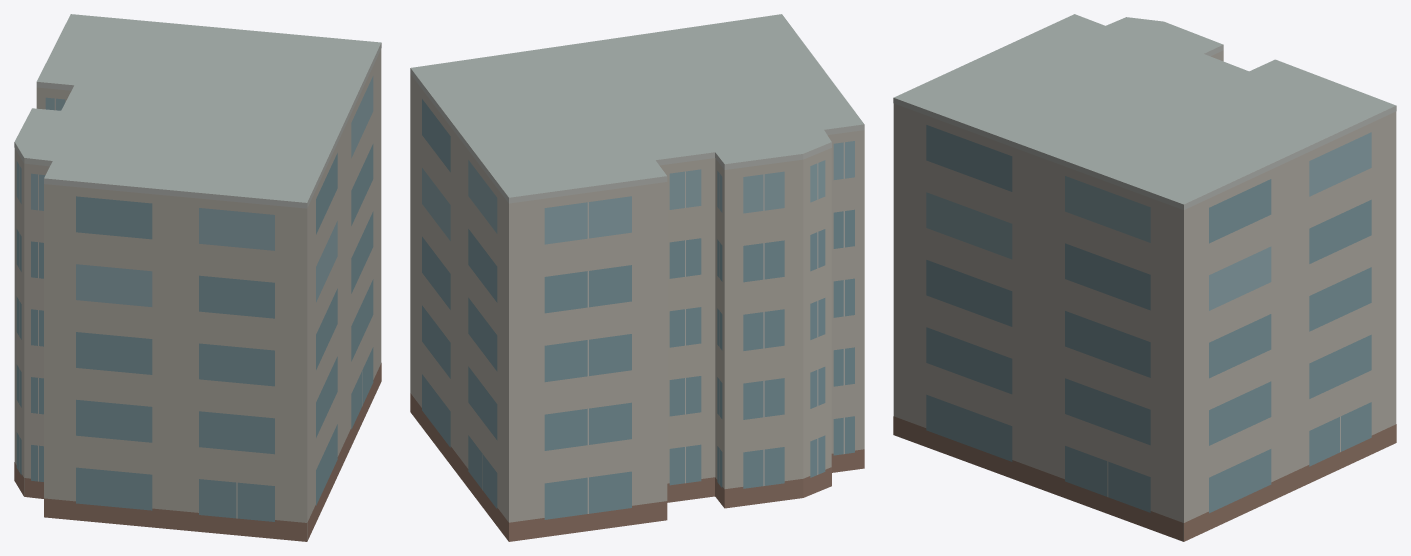
Rendered from survey-upis-32735185.glb.
The picture shows the model from 3 angles, left to right: view 1: azimuth 30°, elevation 25°; view 2: azimuth 150°, elevation 25°; view 3: azimuth 270°, elevation 25°; orthographic projection. The views are drawn at different scales.
Parts seen in each view (by area): view 1: survey-upis-32735185.tmp; view 2: survey-upis-32735185.tmp; view 3: survey-upis-32735185.tmp.
Part boxes in pixels (bbox=[...]): survey-upis-32735185.tmp: bbox=[14, 14, 381, 541]; survey-upis-32735185.tmp: bbox=[410, 14, 864, 541]; survey-upis-32735185.tmp: bbox=[893, 14, 1396, 541].
Size of the model in its own units: 17.57 by 14.5 by 19.6.
